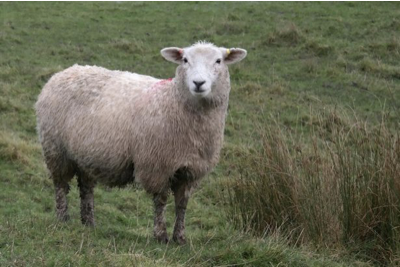koyun: (33, 41, 246, 244)
